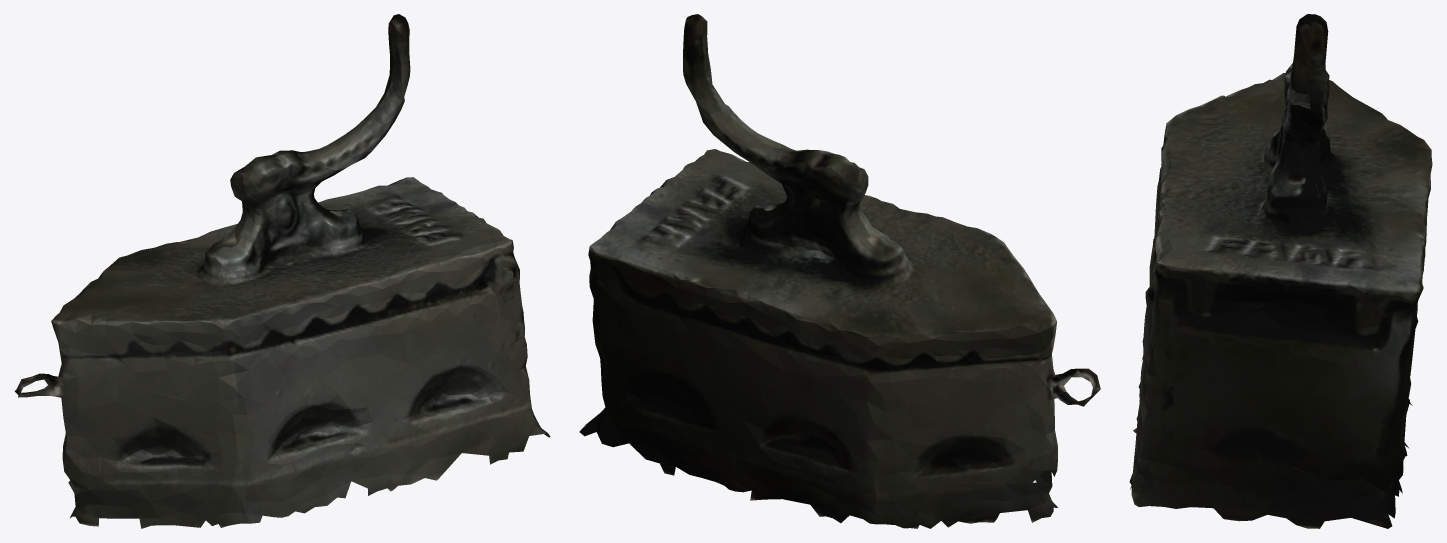
The model's file is ferro.gltf.
The picture shows the model from 3 angles, left to right: view 1: azimuth 30°, elevation 25°; view 2: azimuth 150°, elevation 25°; view 3: azimuth 270°, elevation 25°; orthographic projection. The views are drawn at different scales.
Parts seen in each view (by area): view 1: model_Ferro nice_20250202_124731985; view 2: model_Ferro nice_20250202_124731985; view 3: model_Ferro nice_20250202_124731985.
Part boxes in pixels (bbox=[...]): model_Ferro nice_20250202_124731985: bbox=[14, 14, 550, 528]; model_Ferro nice_20250202_124731985: bbox=[579, 14, 1100, 528]; model_Ferro nice_20250202_124731985: bbox=[1129, 14, 1432, 528].
Size of the model in its own units: 0.7545 by 0.642 by 0.3593.
1 material, 1 textured.
